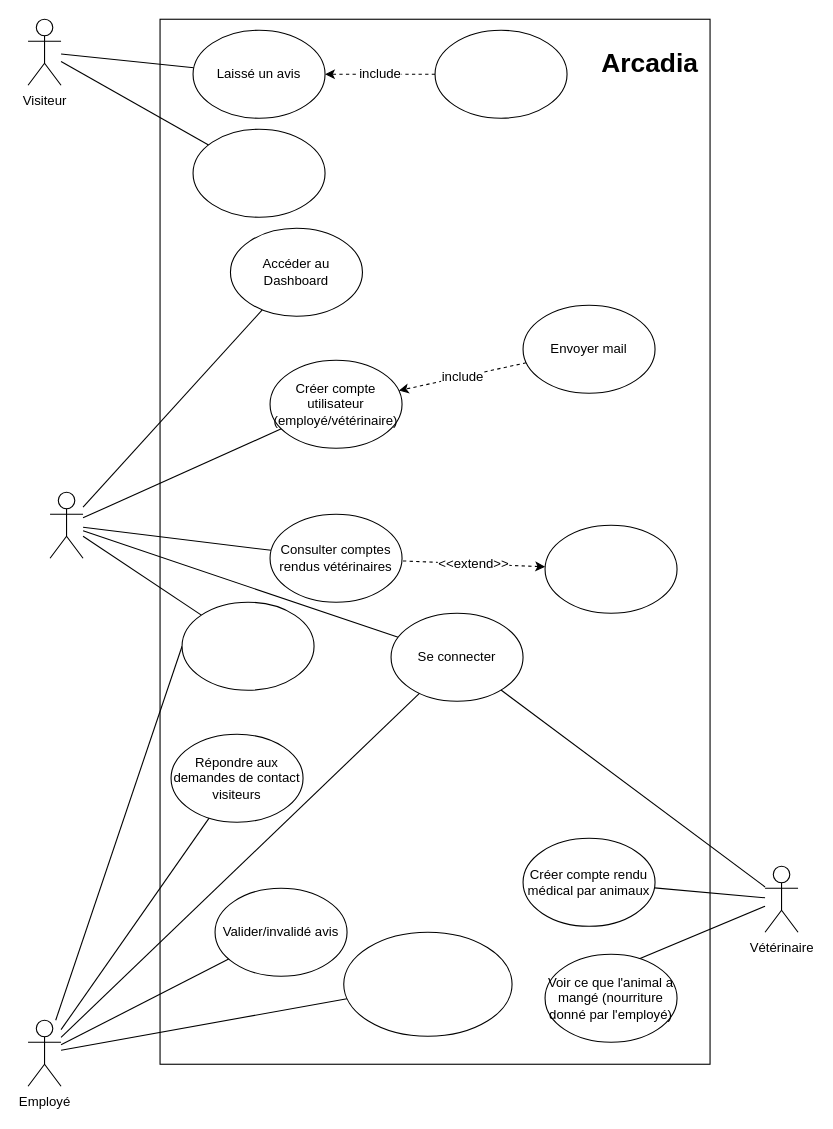
This 833x1129 diagram has some shape labels left out. The centre of each missing label's shape, as x and y in pixels:
Admin: the point at 66,524
Ajouter consommation nourriture d'un animal (date, heure, nourriture, quantité: the point at 427,983
Contacter le zoo: the point at 258,172
Filtrer par animal ou date: the point at 610,568
Gérer les services ( horaire, habitat et animaux du zoo): the point at 247,645
Validation par employé: the point at 500,73
